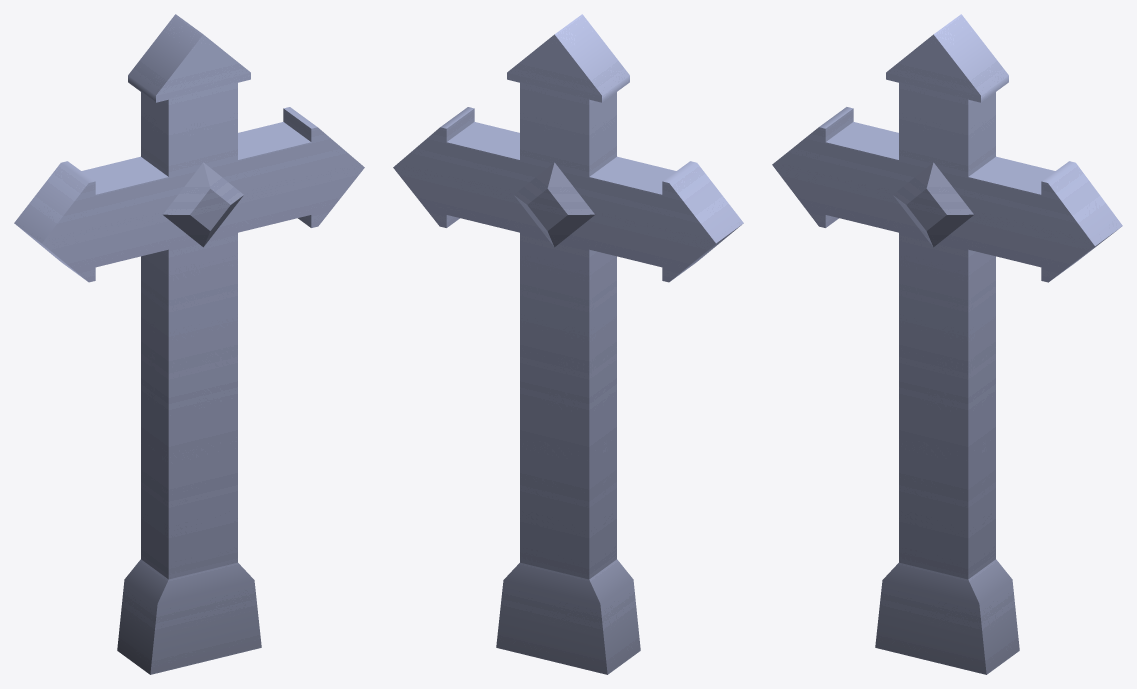
Rendered from cross.glb.
3 renders of one model, left to right at view 1: azimuth 30°, elevation 25°; view 2: azimuth 150°, elevation 25°; view 3: azimuth 330°, elevation 25°, orthographic.
Visible parts, largest first — view 1: cross; view 2: cross; view 3: cross.
Boxes of the visible parts, x1=… form: cross: x1=14, y1=14, x2=364, y2=674; cross: x1=393, y1=14, x2=743, y2=674; cross: x1=772, y1=14, x2=1122, y2=674.
Bounding box in the file's own units: 0.5355 × 0.99 × 0.12.
1 material, 1 textured.
